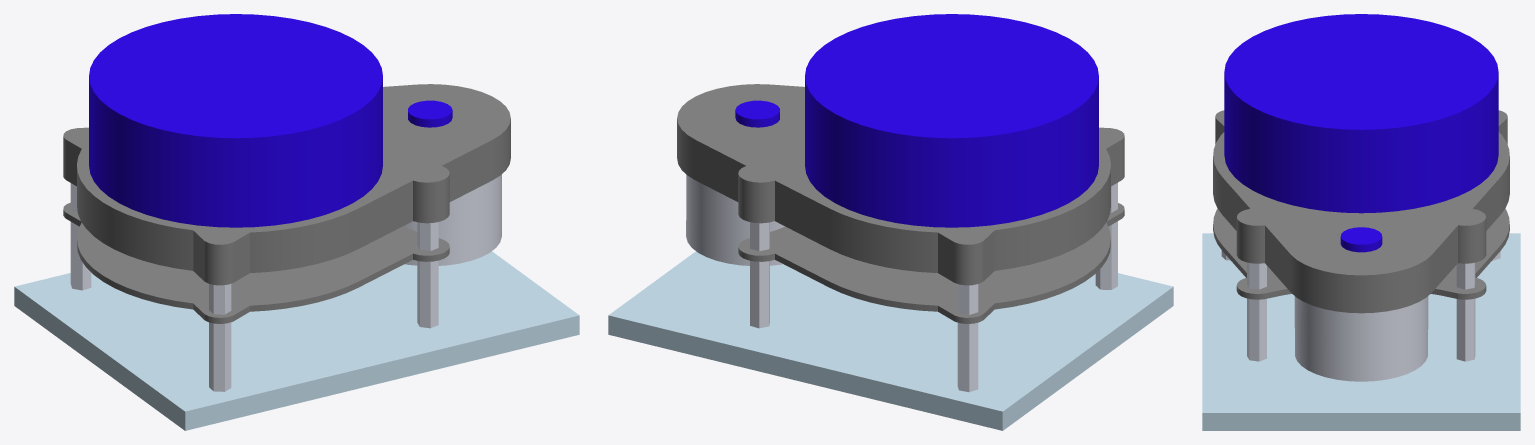
Rendered from lidar.dae.
3 renders of one model, left to right at view 1: azimuth 30°, elevation 25°; view 2: azimuth 150°, elevation 25°; view 3: azimuth 270°, elevation 25°, orthographic. The views are drawn at different scales.
Visible parts, largest first — view 1: lidar22; view 2: lidar22; view 3: lidar22.
Boxes of the visible parts, x1,y1,x2,y2 form: lidar22: [14, 14, 579, 430]; lidar22: [608, 14, 1173, 430]; lidar22: [1202, 14, 1520, 430].
Bounding box in the file's own units: 0.1034 × 0.0762 × 0.0638.
